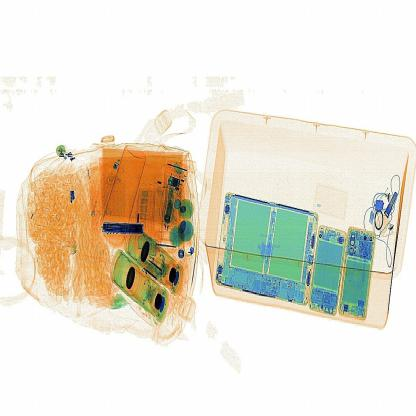scissors: (95, 215, 149, 237)
